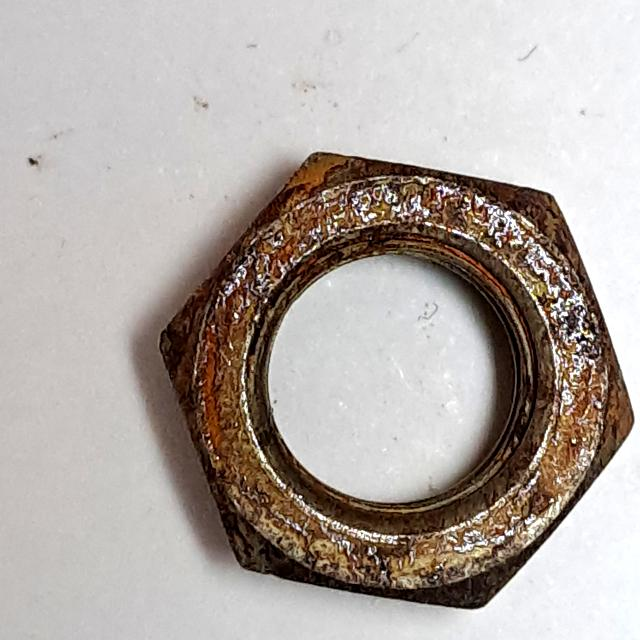Rust: (151, 141, 640, 629)
